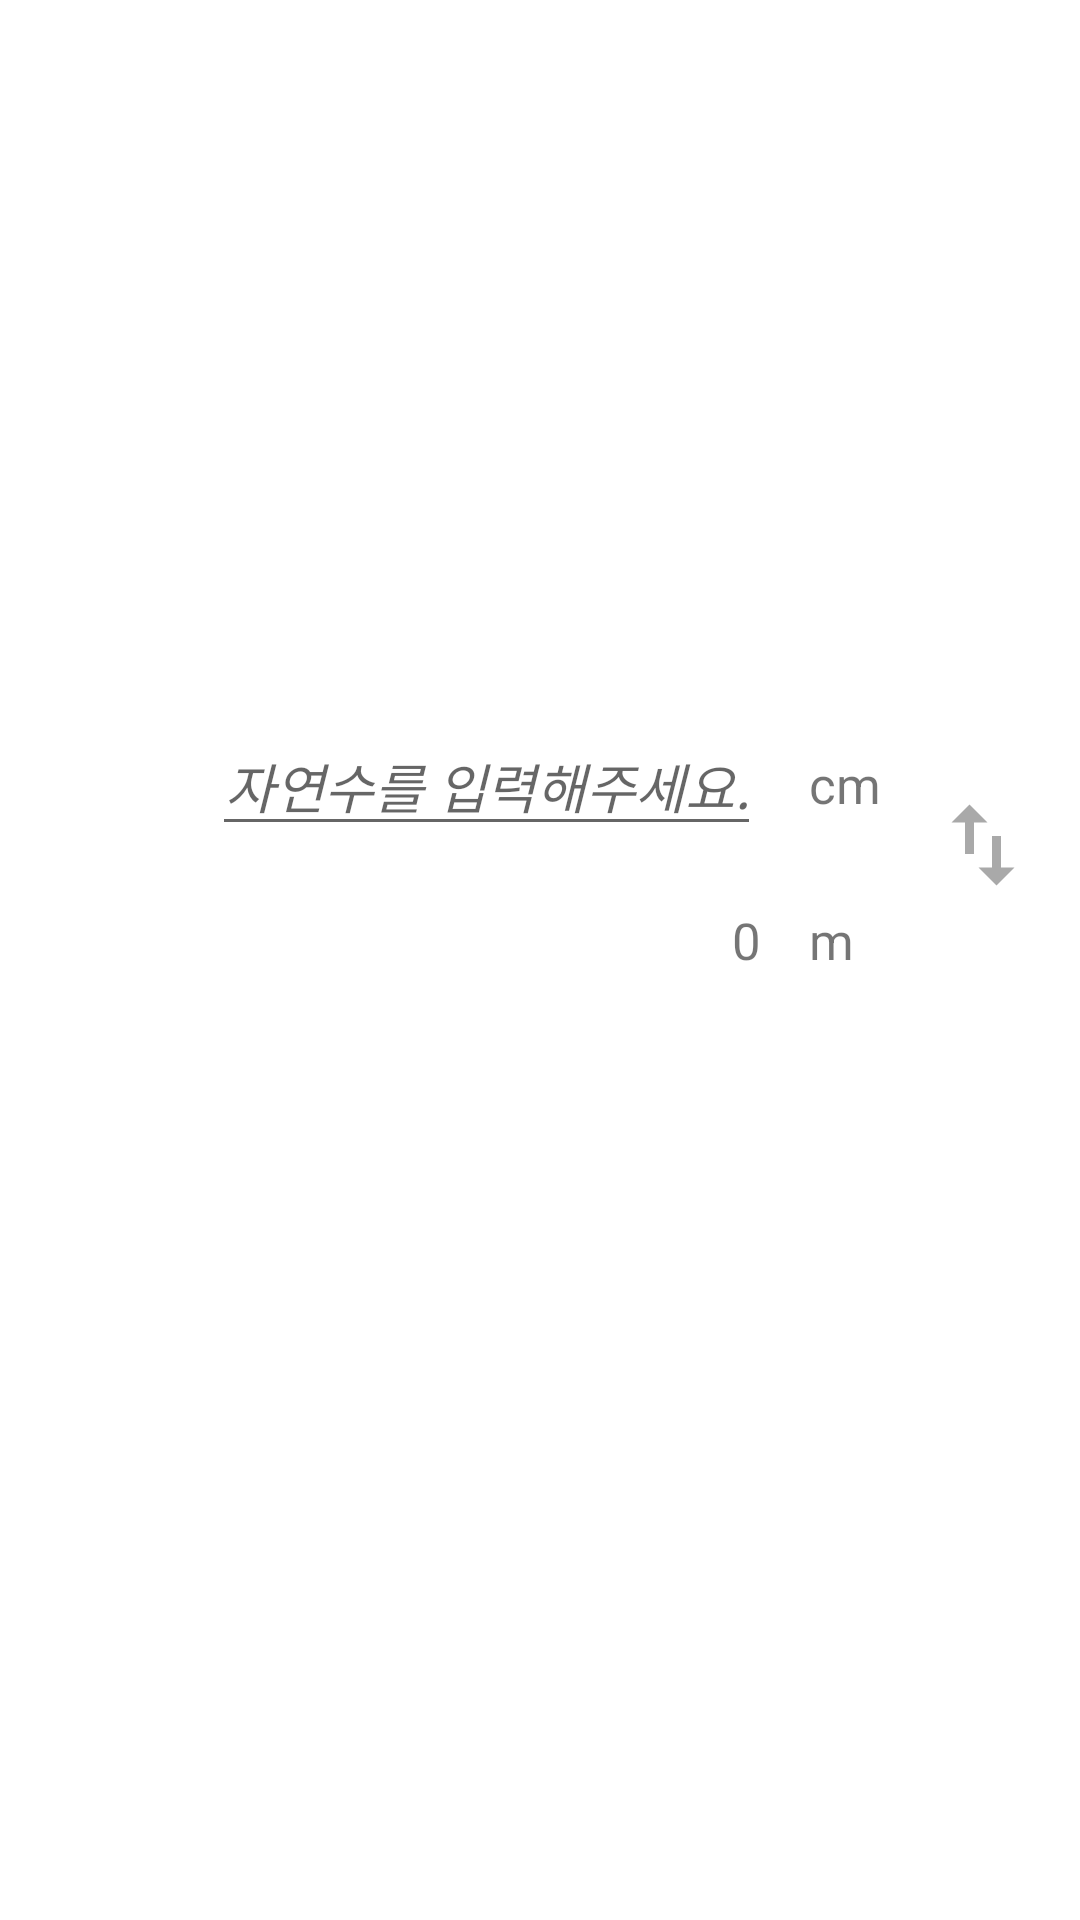

Screen size 1080x1920. Icon name, then its box in pixels as (x1=x1, y1=y1, x2=x2, y2=y2):
swap vert: (x1=952, y1=805, x2=1014, y2=885)
